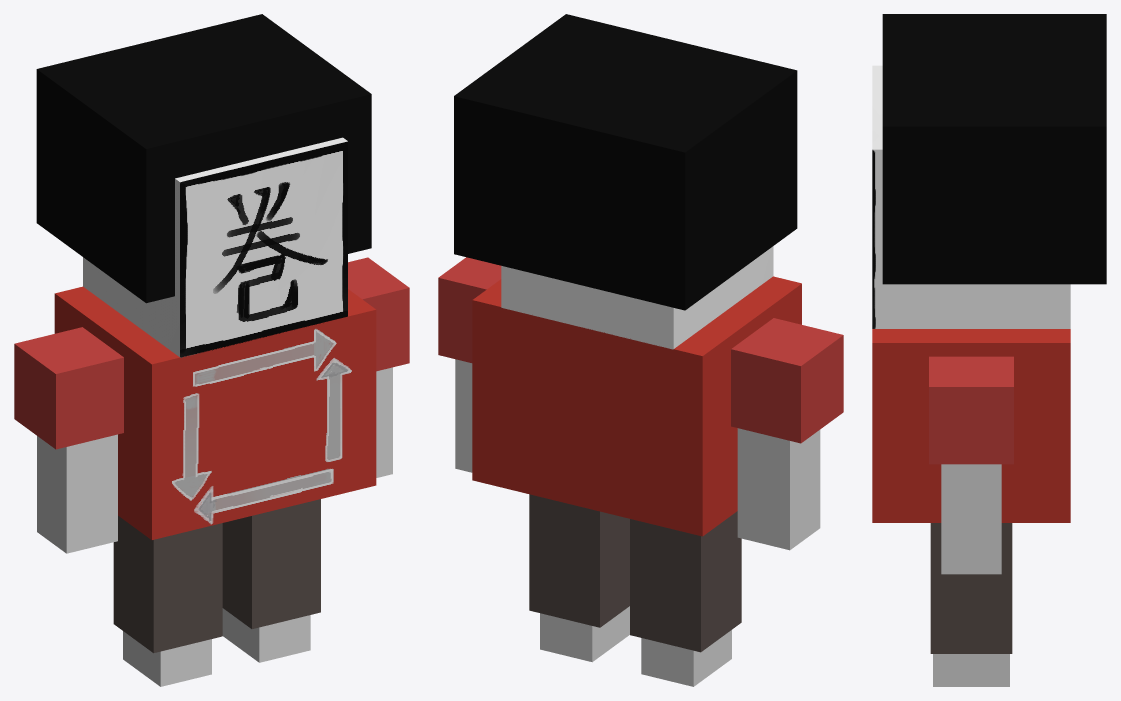
File: tannakaken.glb
3 renders of one model, left to right at view 1: azimuth 30°, elevation 25°; view 2: azimuth 150°, elevation 25°; view 3: azimuth 270°, elevation 25°, orthographic. The views are drawn at different scales.
Visible parts, largest first — view 1: Cube.010, Cube.001, Cube, Cube.006, Cube.008, Cube.007, Cube.004, Cube.009, Cube.002, Cube.003, Cube.005; view 2: Cube.010, Cube.001, Cube.006, Cube.008, Cube.007, Cube, Cube.004, Cube.009, Cube.002, Cube.003, Cube.005; view 3: Cube.010, Cube.001, Cube, Cube.009, Cube.007, Cube.005, Cube.003.
Part boxes in pixels (x1=…): Cube.010: x1=36, y1=14, x2=371, y2=303; Cube.001: x1=54, y1=286, x2=376, y2=539; Cube: x1=83, y1=137, x2=347, y2=357; Cube.006: x1=113, y1=516, x2=222, y2=653; Cube.008: x1=14, y1=327, x2=123, y2=449; Cube.007: x1=222, y1=499, x2=320, y2=628; Cube.004: x1=37, y1=434, x2=117, y2=553; Cube.009: x1=348, y1=257, x2=409, y2=371; Cube.002: x1=123, y1=631, x2=211, y2=686; Cube.003: x1=222, y1=608, x2=310, y2=662; Cube.005: x1=376, y1=367, x2=392, y2=477; Cube.010: x1=454, y1=14, x2=797, y2=310; Cube.001: x1=472, y1=276, x2=801, y2=536; Cube.006: x1=630, y1=511, x2=741, y2=652; Cube.008: x1=731, y1=318, x2=843, y2=443; Cube.007: x1=529, y1=494, x2=629, y2=627; Cube: x1=501, y1=246, x2=773, y2=349; Cube.004: x1=737, y1=428, x2=820, y2=550; Cube.009: x1=438, y1=257, x2=501, y2=362; Cube.002: x1=641, y1=630, x2=731, y2=686; Cube.003: x1=540, y1=606, x2=629, y2=662; Cube.005: x1=455, y1=359, x2=472, y2=472; Cube.010: x1=882, y1=14, x2=1106, y2=284; Cube.001: x1=872, y1=329, x2=1070, y2=522; Cube: x1=872, y1=65, x2=1070, y2=328; Cube.009: x1=929, y1=356, x2=1013, y2=464; Cube.007: x1=930, y1=523, x2=1012, y2=653; Cube.005: x1=941, y1=464, x2=1001, y2=574; Cube.003: x1=933, y1=654, x2=1009, y2=686.
Bounding box in the file's own units: 4.21 × 6.43 × 2.36.
5 materials, 2 textured.
